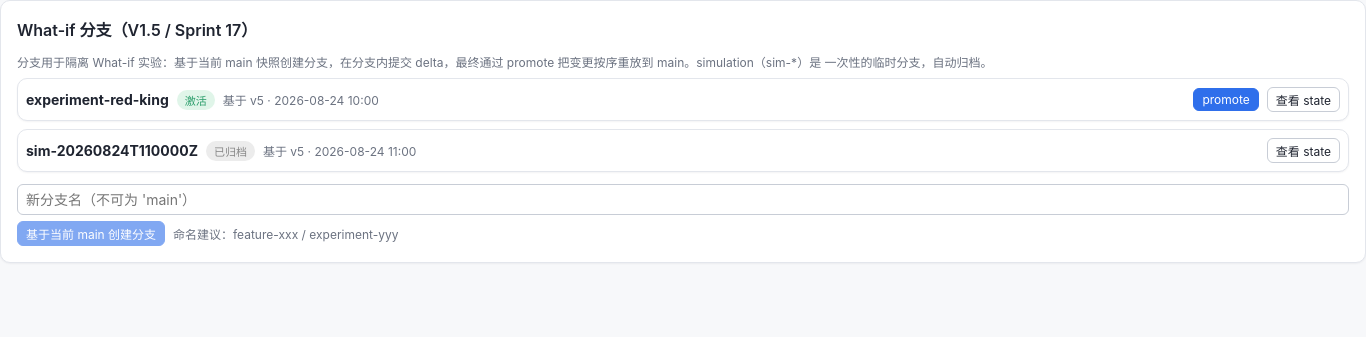
Scenario: BranchesPanel (V1.5 / Sprint 17) › promote 409 其它错误（branch_closed）仍按普通失败展示，不伪造审批出路
What coordinates should you click on to do the following:
click the button with test id "branches-promote-br_exp1"
I would click on:
 (1226, 100)
Its box is 1193,88 -> 1259,111.
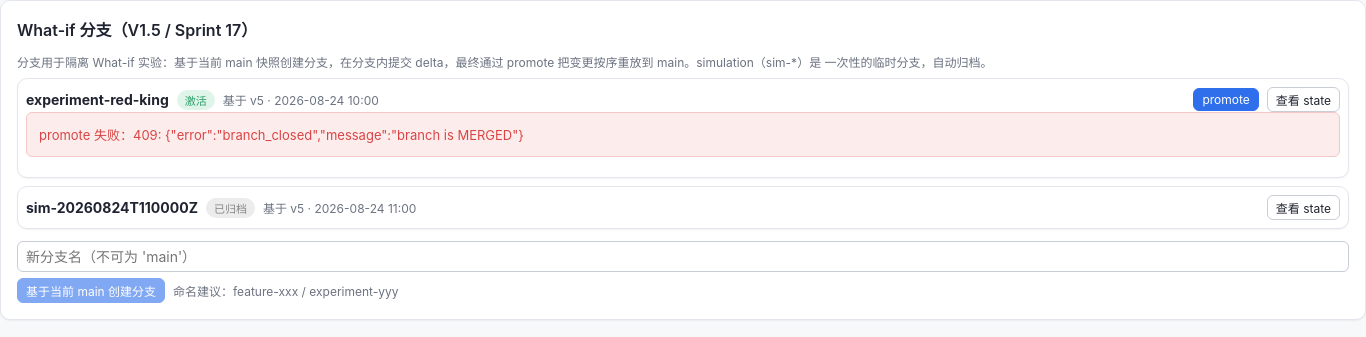
Expected: the text with test id "branches-promote-error-br_exp1" is shown, 39,127 -> 524,143
